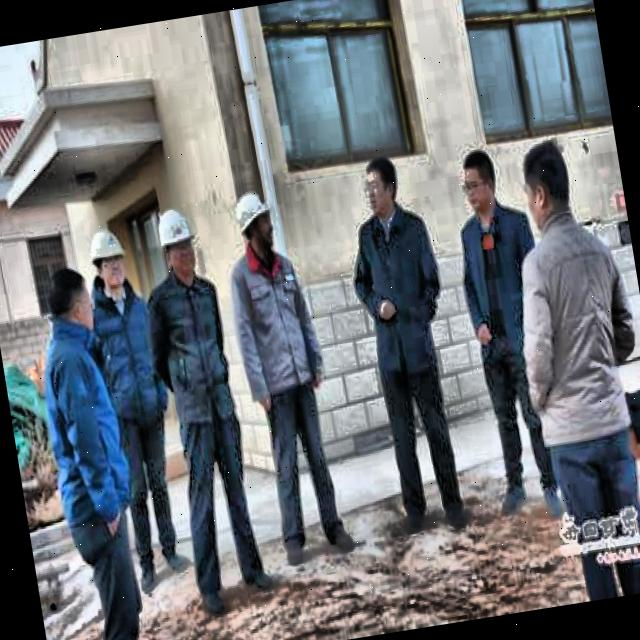helmet: (151, 201, 204, 283), (232, 188, 280, 258), (84, 224, 129, 298)
